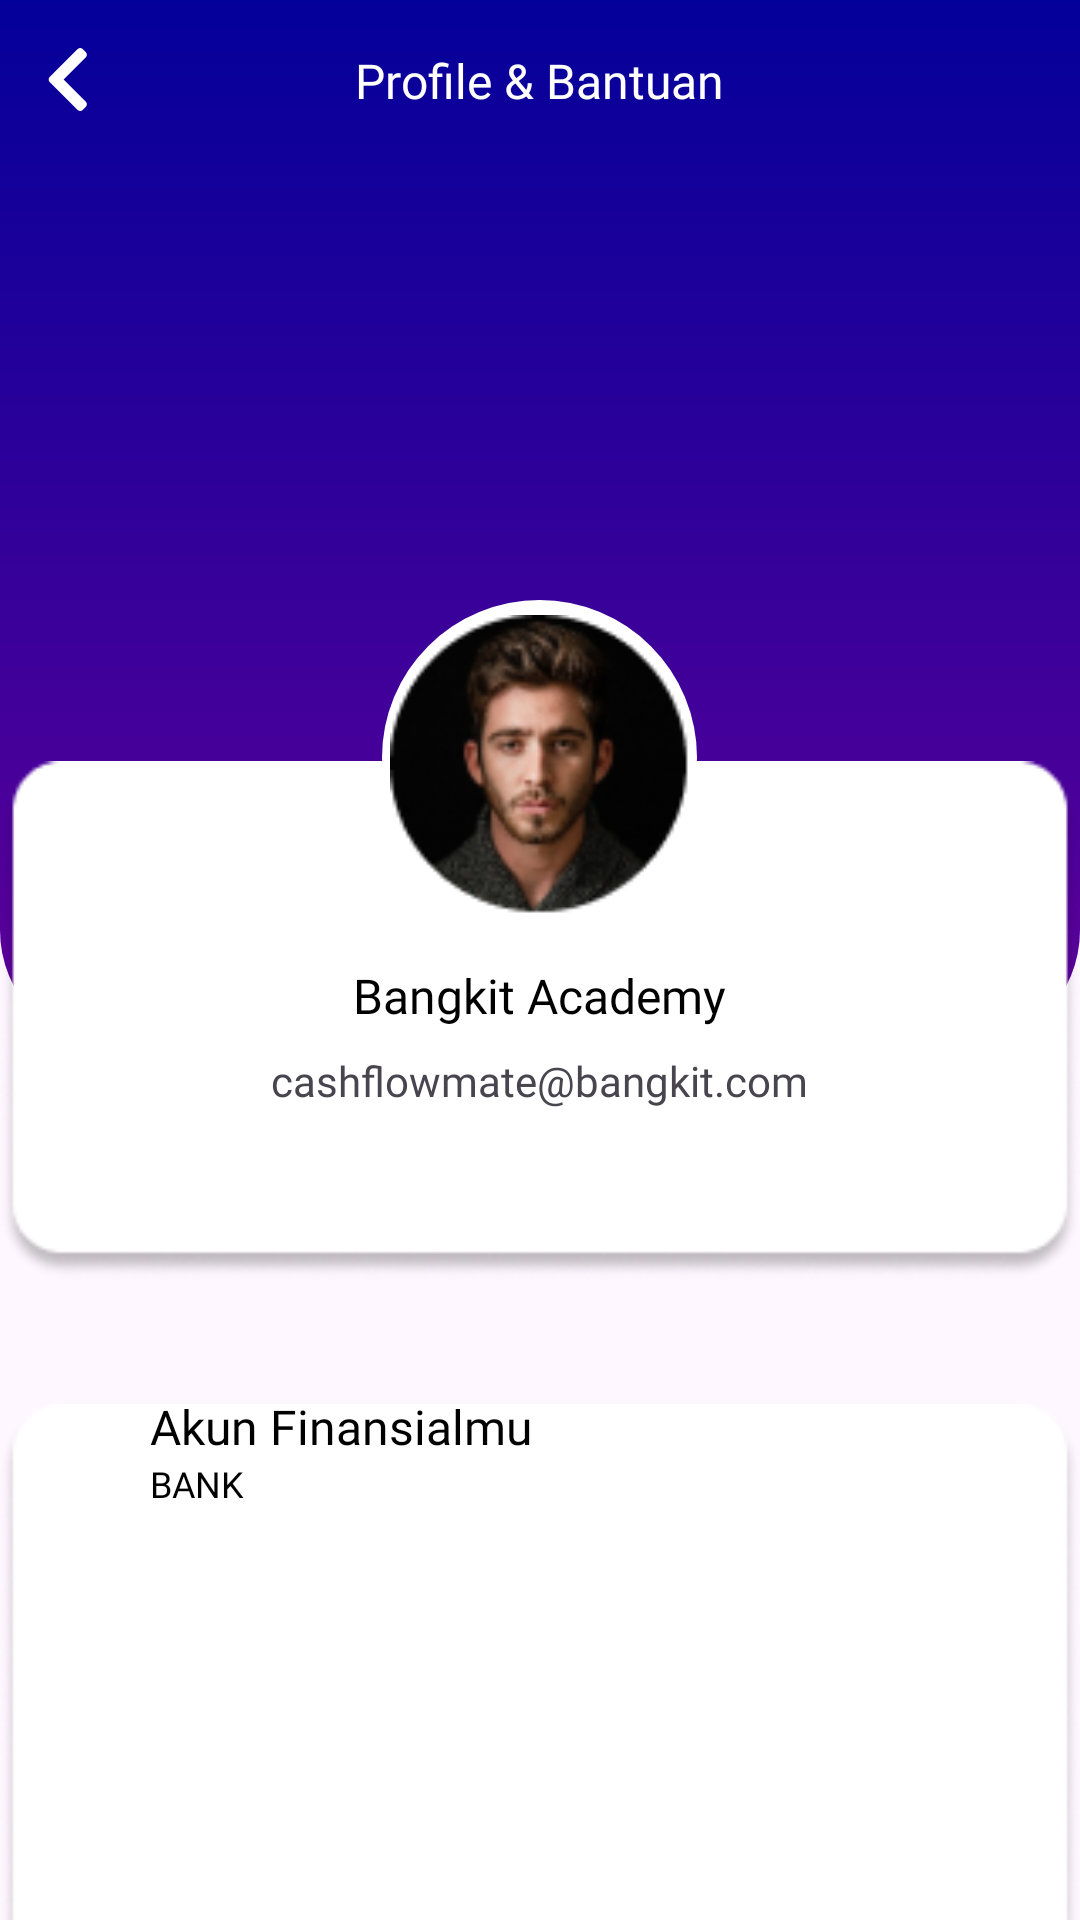

Icons on this 1080w x 1920h Android screen, each with the point to tap as [x,y]:
button back clickabel: [67,79]
profile: [539,764]
